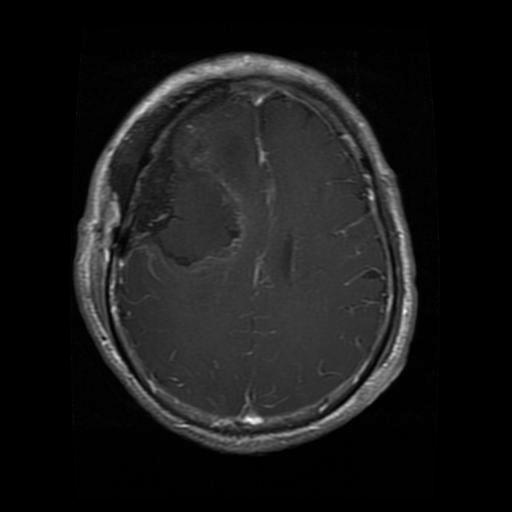Tumour-Glioma: (145, 152, 242, 275)
